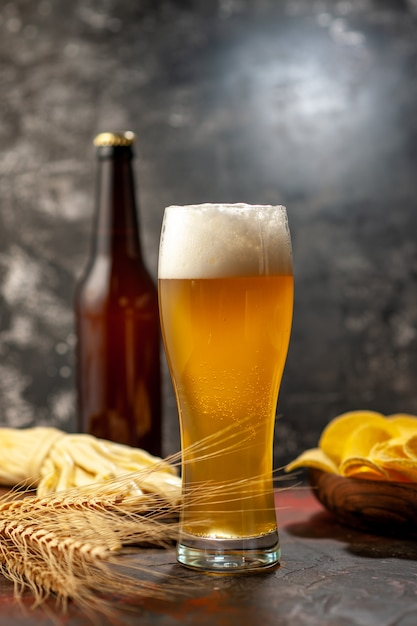alcohol: (159, 199, 292, 577), (72, 128, 165, 463)
